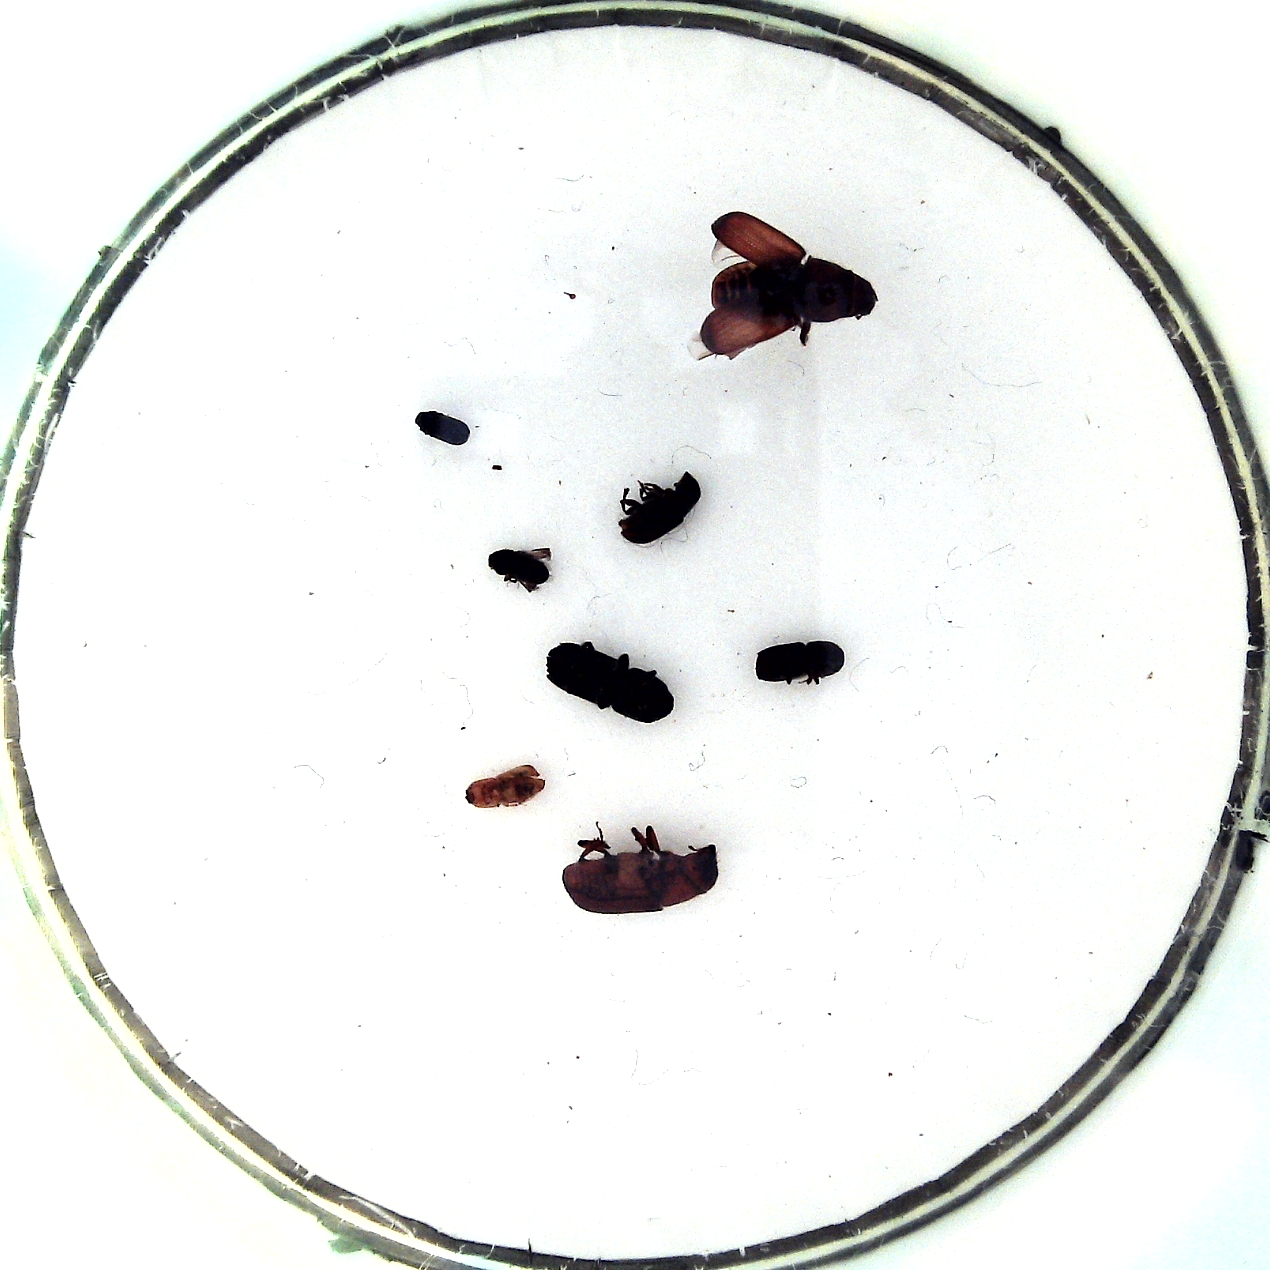Boerner: (545, 642, 675, 725)
Leconte: (711, 256, 878, 324), (562, 846, 719, 913)
acuminatus: (487, 550, 550, 586)
armandi: (618, 471, 702, 545)
coleoptera: (464, 765, 545, 809), (416, 411, 471, 445)
linnaeus: (752, 640, 844, 682)
